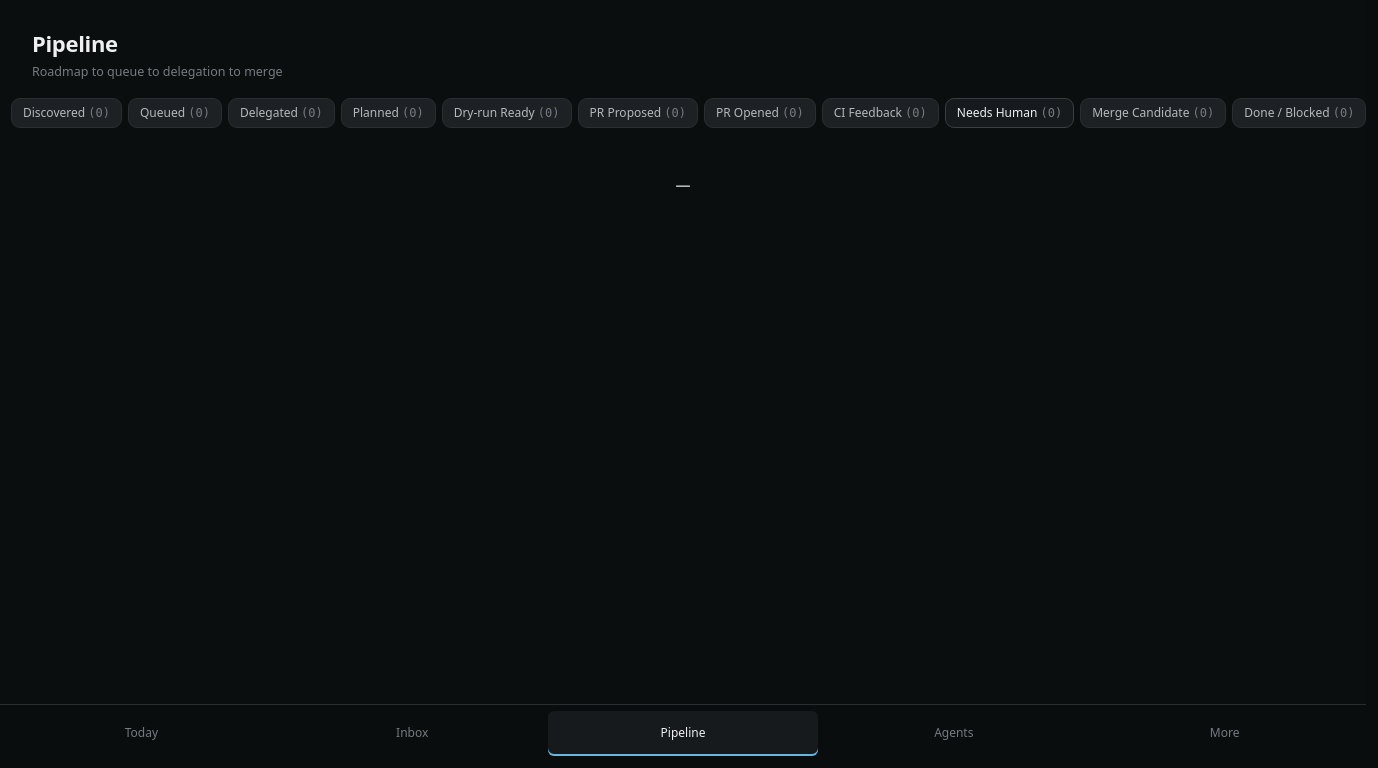
it: AgentActivity Pipeline › renders 'No promotable candidates' for empty done_blocked stage
Expected: the element with test id "aac-section-pipeline" is shown, [16,14,1350,231]
Click the tab with test id "aac-pipeline-chip-done_blocked" at x=1299, y=113, box [1232,98,1366,128]
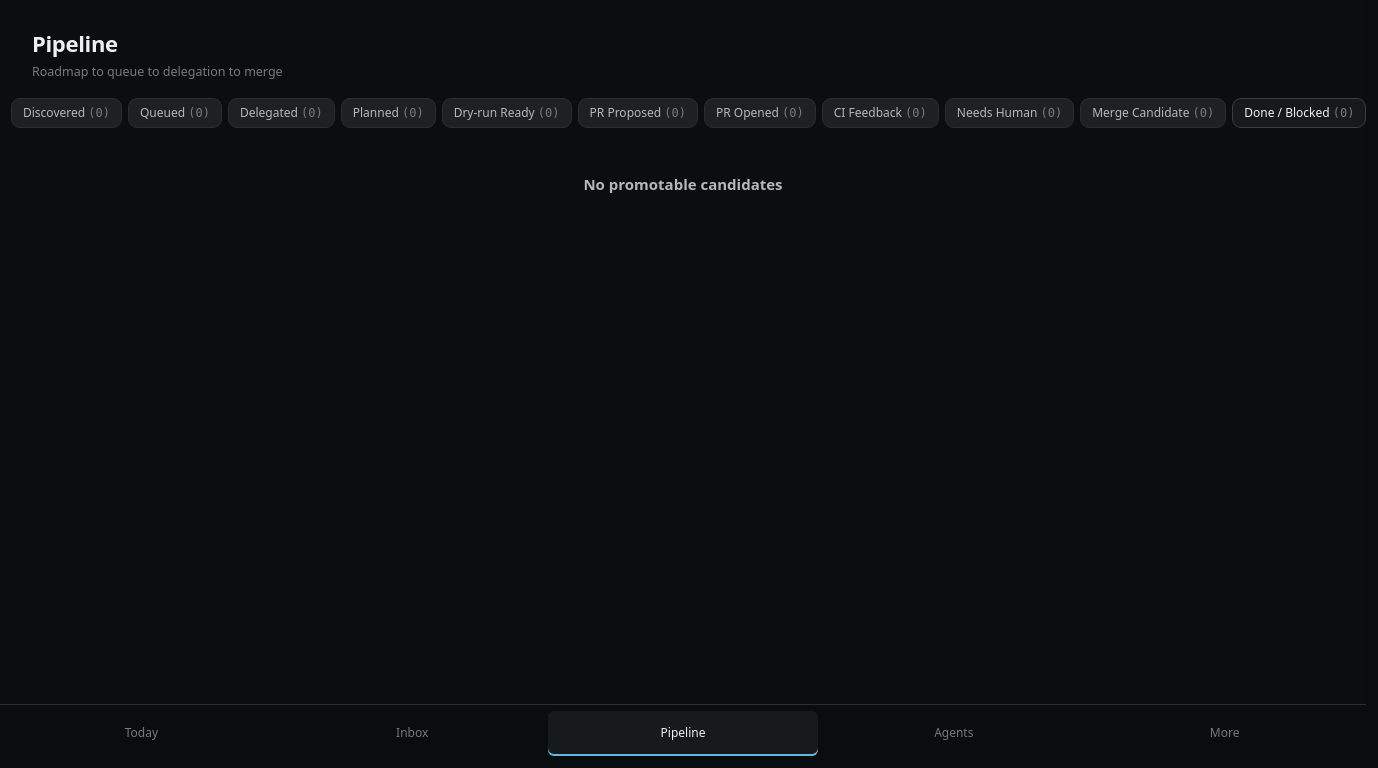
Expected: the element with test id "aac-pipeline-empty-done_blocked" reads "No promotable candidates", [583,174,783,194]
